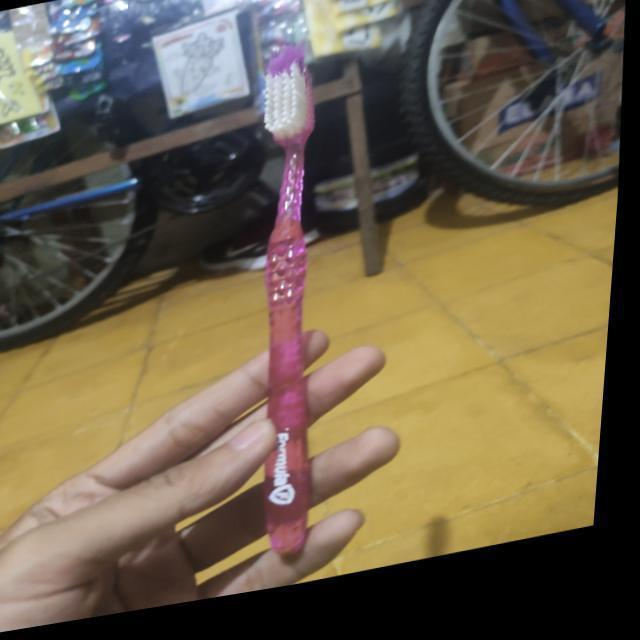toothbrush: (203, 27, 393, 609)
